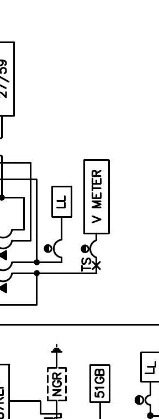LL: (51, 185, 73, 218)
NGR_future: (47, 343, 67, 402)
v_m_digital: (83, 159, 110, 235)
